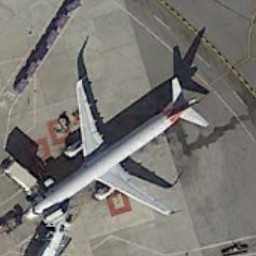Airplane: (8, 68, 214, 230)
